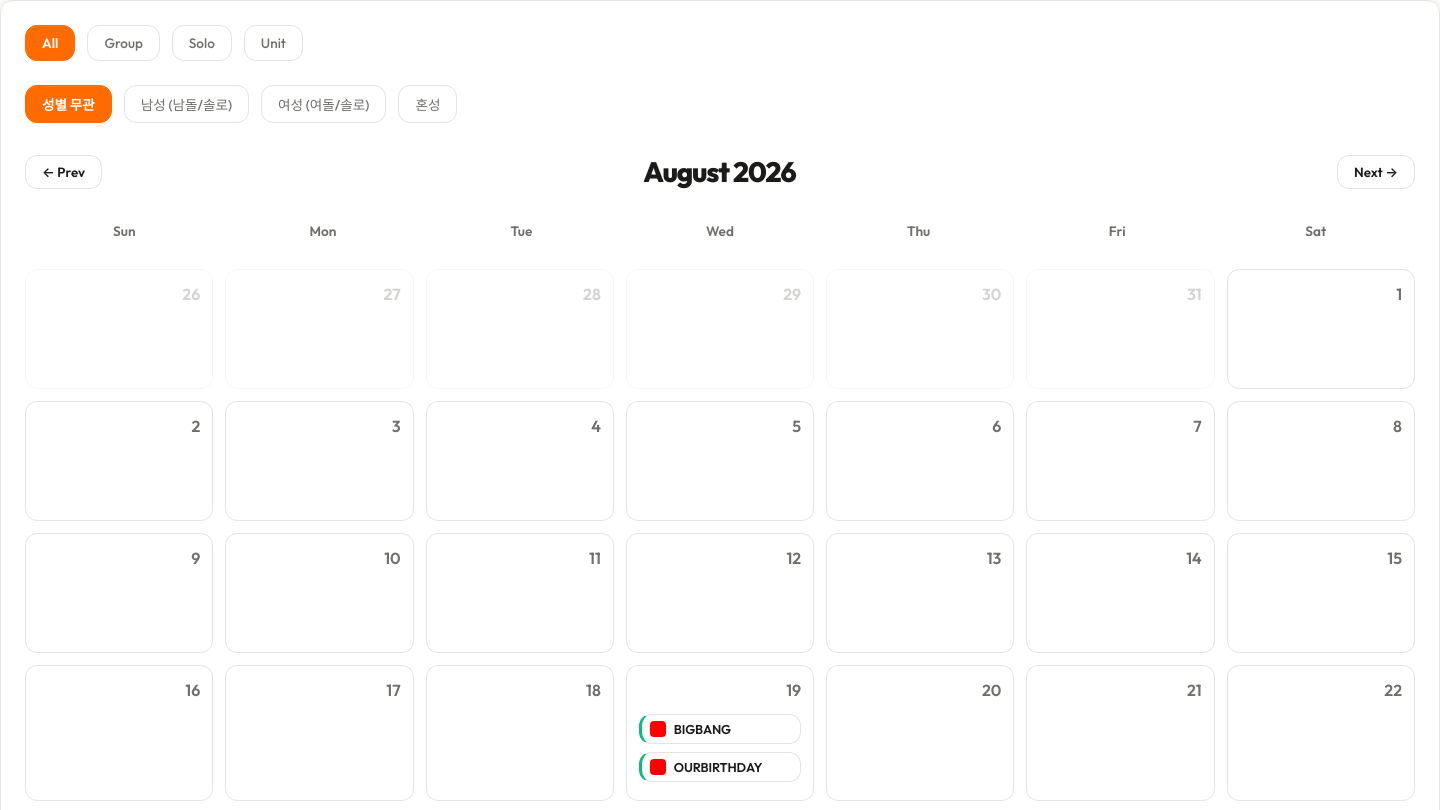
it: CalendarGrid › filters by artistGender (Female)
Expected: the text "BIGBANG" is shown, [674,721,731,737]
Expected: the text "OURBIRTHDAY" is shown, [674,759,762,775]
Click the button "여성 (여돌/솔로)": coordinates (324, 104) [261,85,386,123]
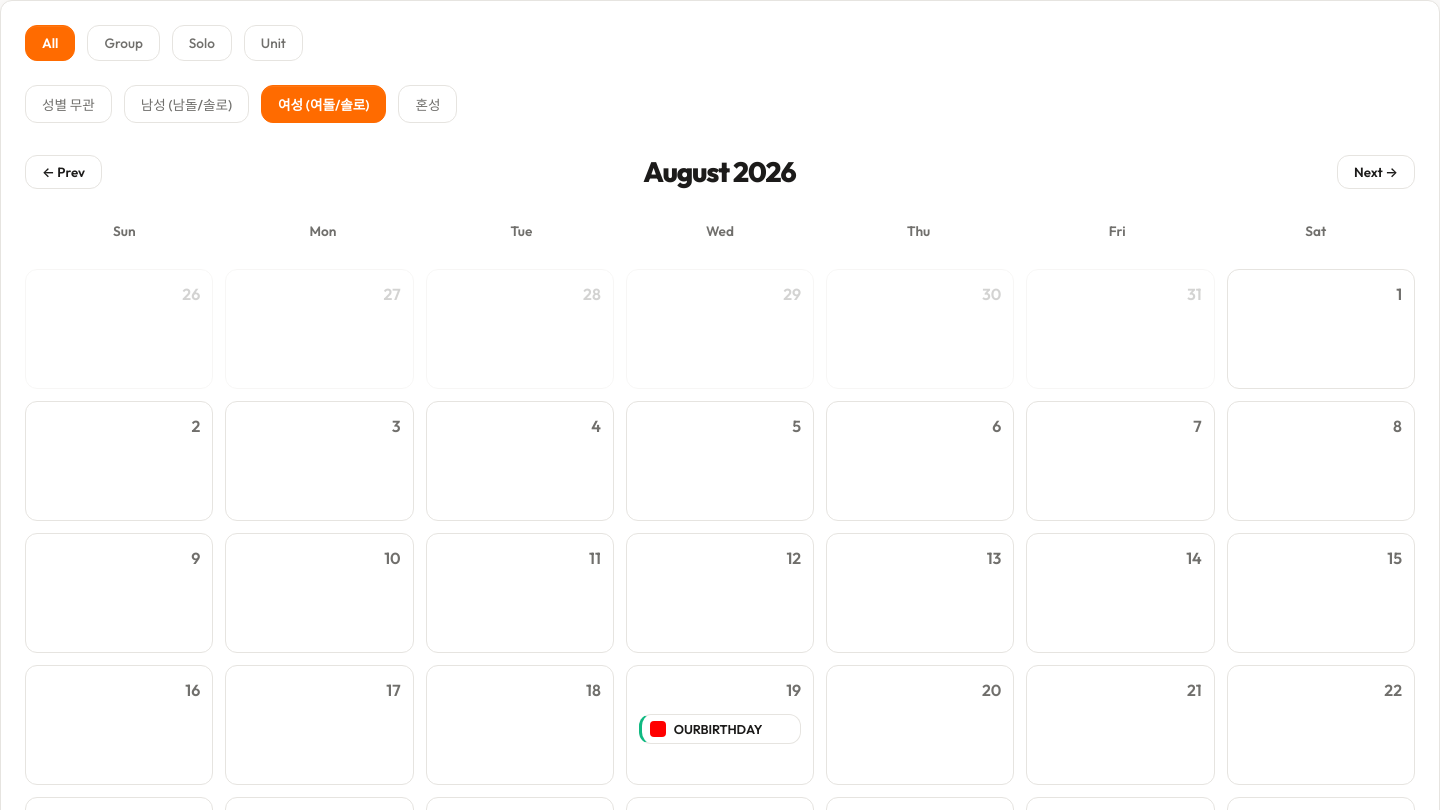
Expected: the text "OURBIRTHDAY" is shown, [674,721,762,737]
Now the button "BIGBANG" is gone
